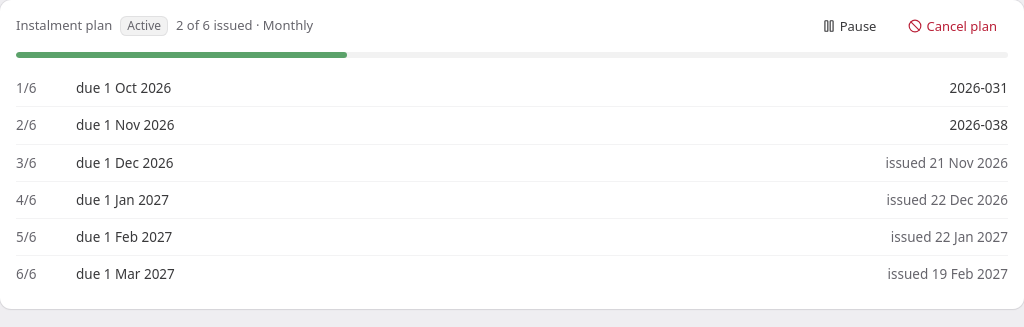
pause plan
Check: the text "2 of 6 issued · Monthly" is shown, box [176,16,313,36]
Check: the link "2026-031" is shown, box [950,78,1008,98]
Click the button "Pause". click: click(849, 26)
box: [811,12,888,40]
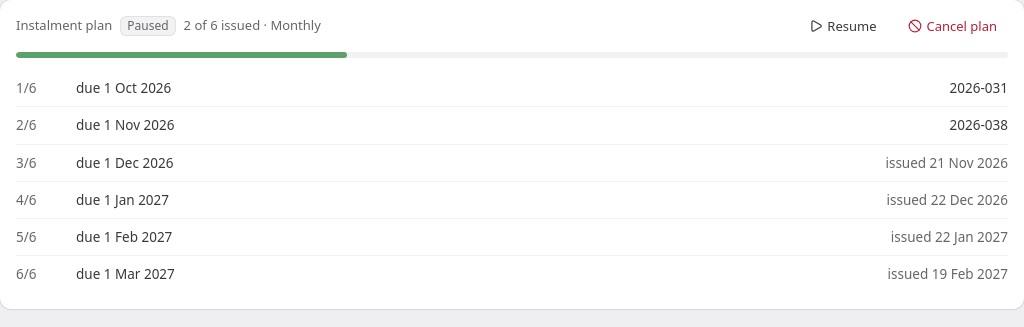
Check: the text "Paused" is shown, box [120,16,176,36]
Check: the button "Resume" is shown, box [798,12,888,40]
